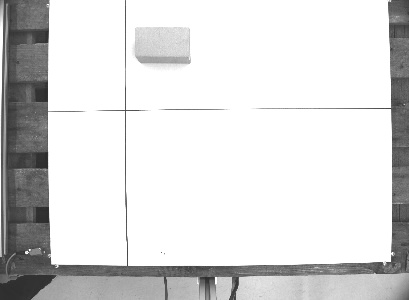b2: (132, 23, 194, 65)
